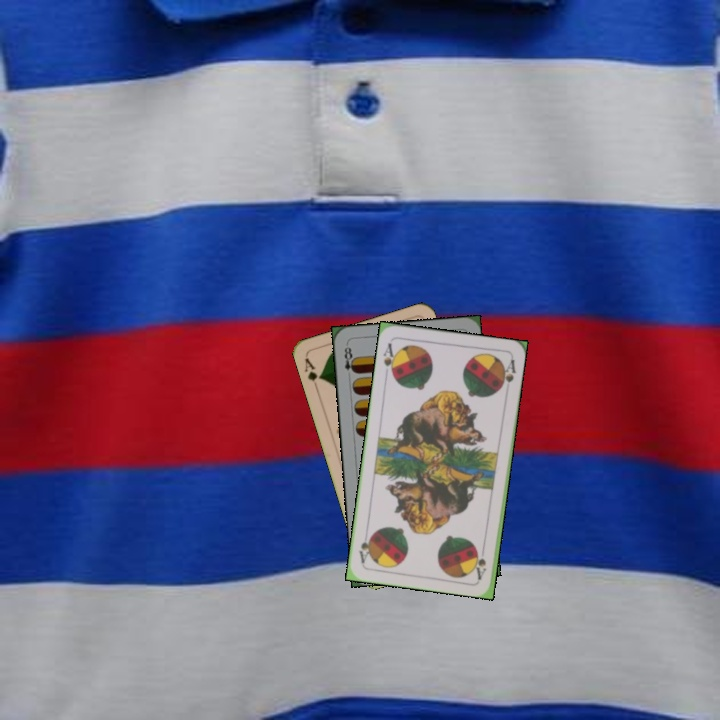E8: (340, 341, 358, 381)
GA: (300, 354, 324, 393)
SA: (379, 339, 399, 379), (472, 541, 489, 581)
